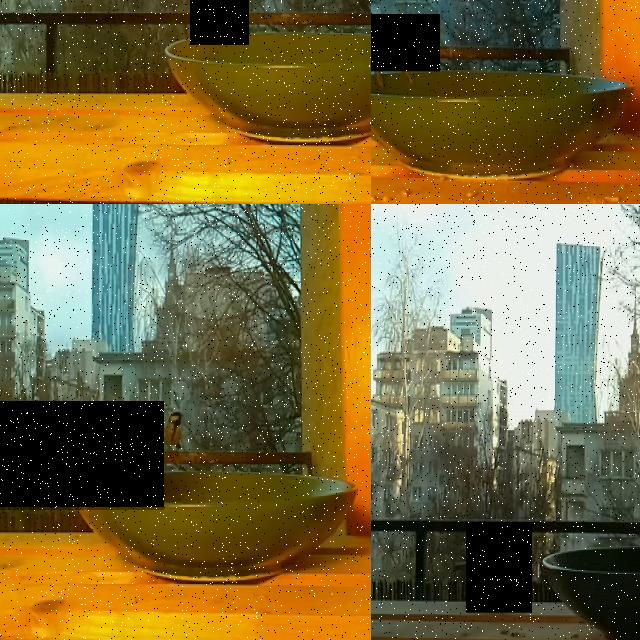Bogatka: (0, 401, 164, 509)
Modraszka: (466, 522, 532, 613), (371, 13, 440, 71), (190, 0, 249, 45)
